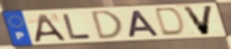A: (33, 13, 68, 43), (127, 9, 162, 39)
D: (90, 9, 126, 41), (155, 7, 187, 37)
L: (61, 13, 94, 41)
V: (181, 5, 216, 37)
